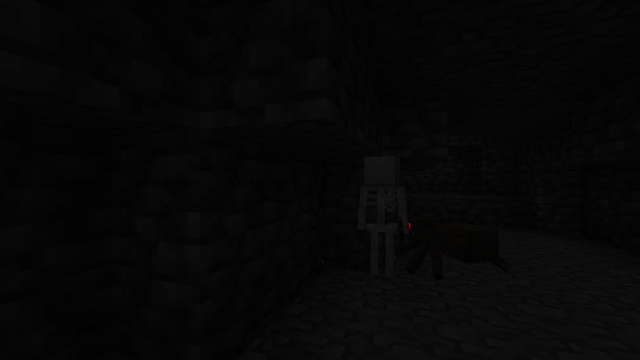araignees: (420, 212, 492, 281)
squelettes: (361, 156, 400, 283)
